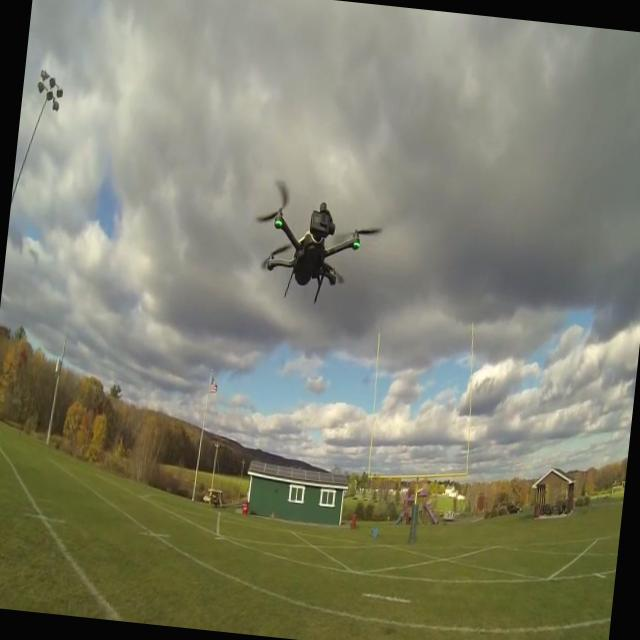drone: (261, 196, 366, 310)
